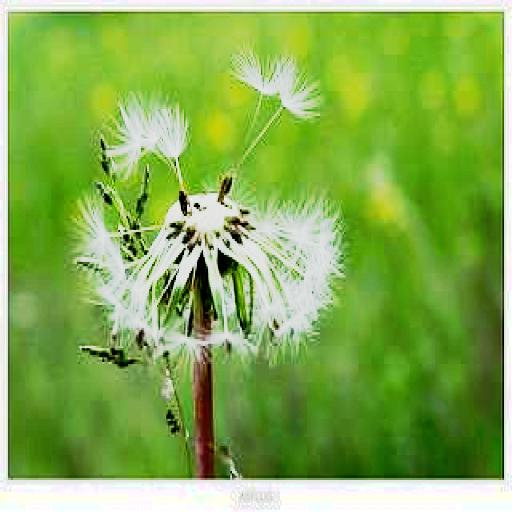dandelion: (78, 48, 346, 350)
